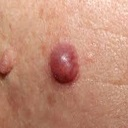Carcinoma: (46, 40, 82, 86)
